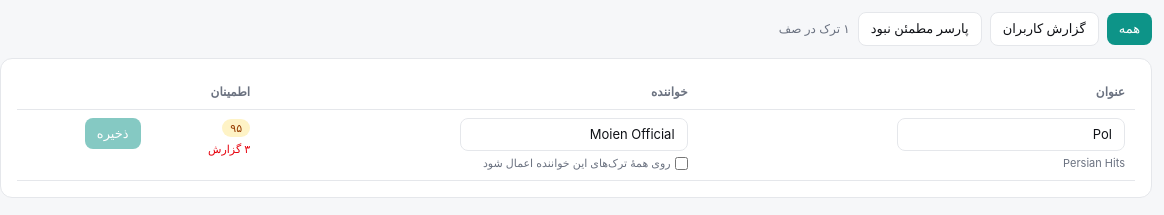
Test case: metadata review queue › applies one correction to every track with the same wrong artist
Replace the text in the field named "خواننده 12" with "معین". click: (574,134)
box: [460,118,688,151]
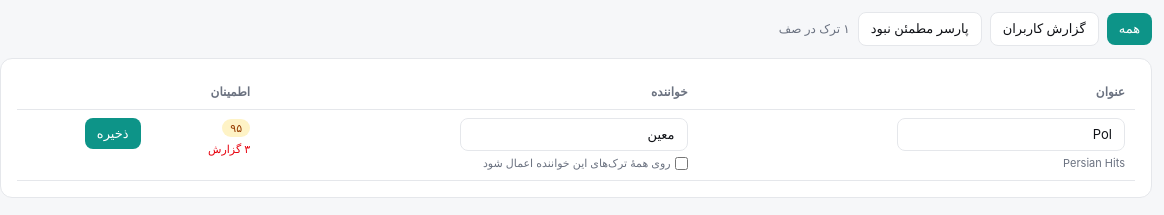
Click the checkbox labelled "روی همهٔ ترک‌های این خواننده اعمال شود". click: (681,163)
box: [675,157,688,170]
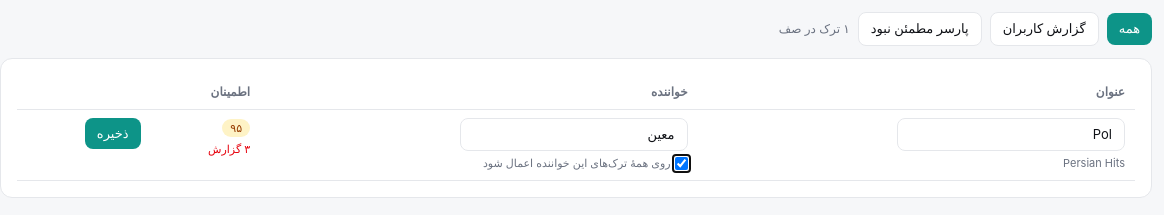
Click the button "ذخیره". click: (113,133)
box: [85,118,141,149]
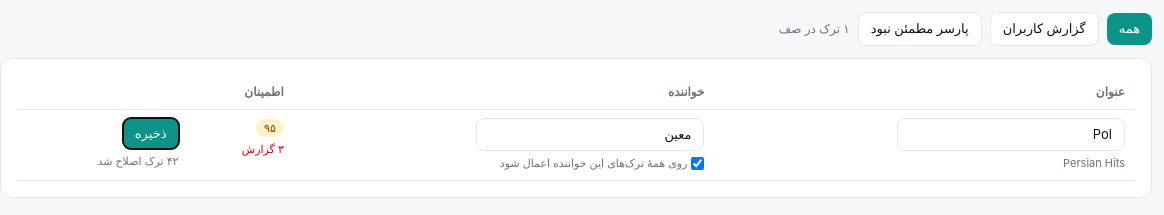
Result: the text "۴۲ ترک اصلاح شد" is shown at [97,154,178,168]
